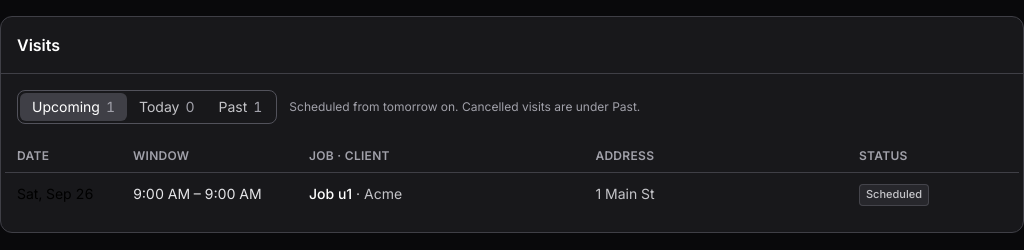
Test case: TechnicianScheduleTab › defaults to Upcoming and switches segments
Expected: the link "Job u1 · Acme" is shown, [309,185,402,202]
Expected: the text "Job p1" is not shown
Click the radio button labelled "Past1" at (240, 107), box [206,93,274,121]
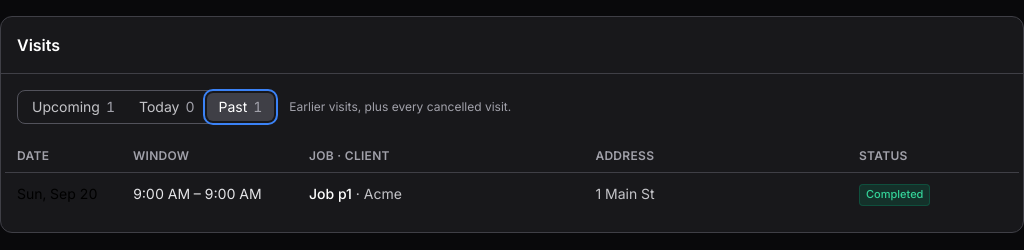
Expected: the link "Job p1 · Acme" is shown, [309,185,402,202]
